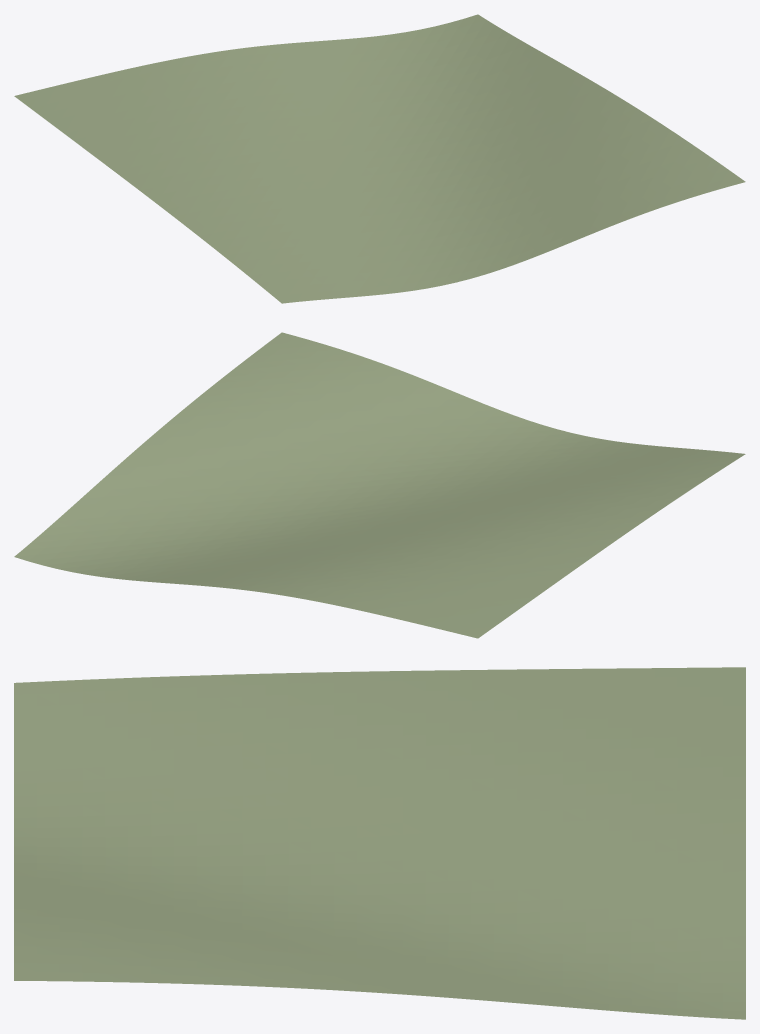
Rendered from desert-12-30.glb.
3 renders of one model, top to bottom at view 1: azimuth 30°, elevation 25°; view 2: azimuth 150°, elevation 25°; view 3: azimuth 270°, elevation 25°, orthographic. The views are drawn at different scales.
Parts seen in each view (by area): view 1: desert-12-30; view 2: desert-12-30; view 3: desert-12-30.
Boxes of the visible parts, x1,y1,x2,y2 form: desert-12-30: (14,14,745,303); desert-12-30: (14,332,745,638); desert-12-30: (14,667,745,1019).
Size of the model in its own units: 512 by 34.87 by 512.
